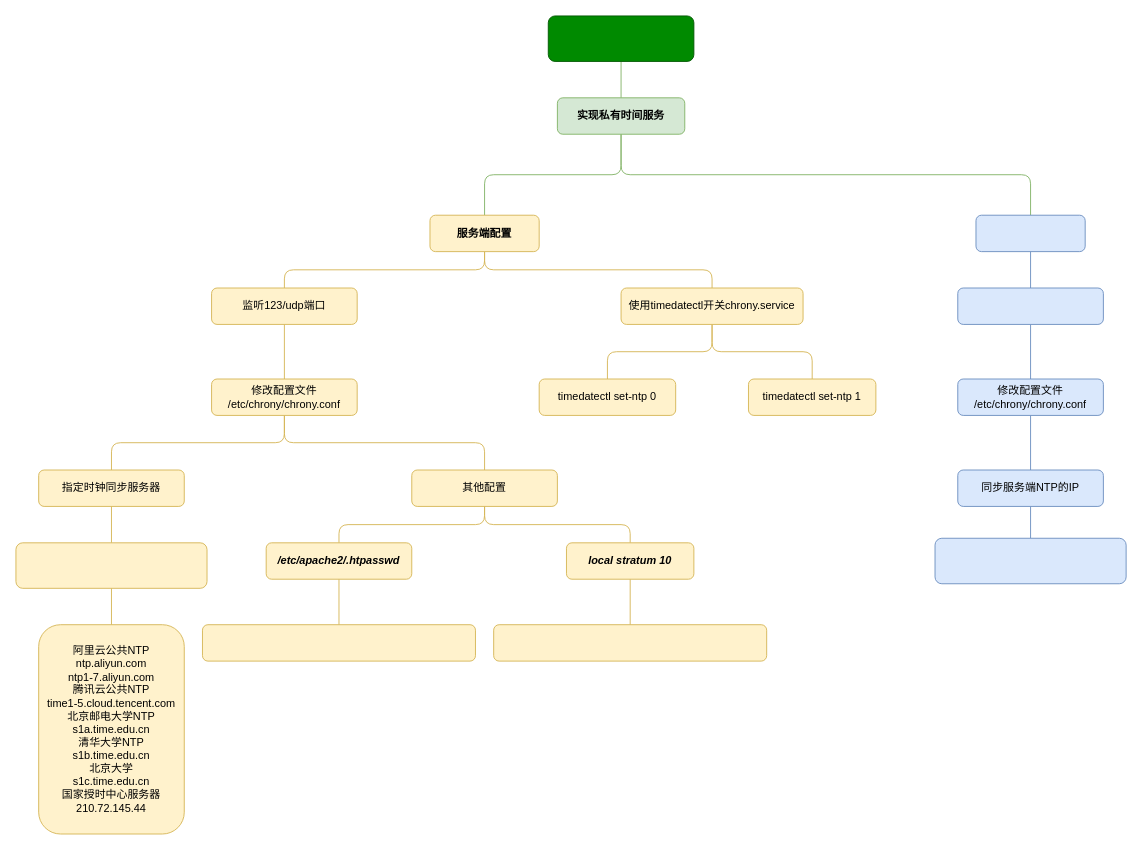
This 1142x850 diagram has some shape labels left out. The shapes that lost their labels are listed below. From the top down, each one's box as (x1, y1, x2, y2) in pixels, then its label:
(547, 15, 694, 61): chrony
(975, 214, 1085, 252): 客户端配置
(957, 287, 1103, 324): 监听323/udp端口
(15, 542, 207, 588): 添加下列行 server ntp.aliyun.com iburst
(934, 537, 1126, 584): 添加下列行 server 10.0.0.206 iburst
(202, 624, 475, 661): 允许10.0.0.0网段的主机将本机作为时间同步服务器
(493, 624, 767, 661): 允许本机在不能与外网同步的情况下，还能提供服务
